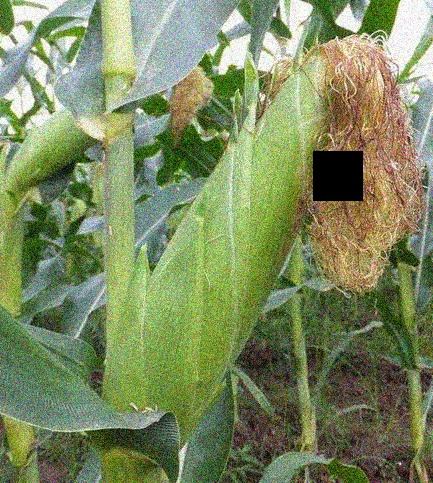corn_plant: (93, 21, 409, 452)
